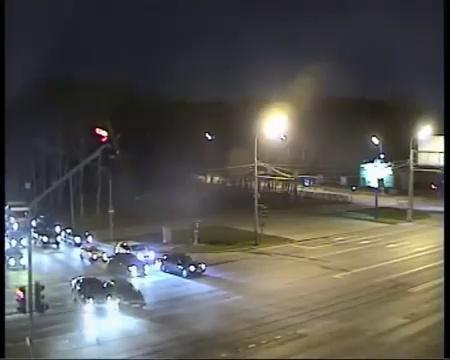car-accident: (71, 274, 147, 313)
